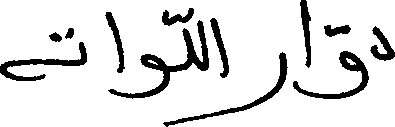ا: (103, 10, 124, 98), (207, 15, 230, 76), (298, 0, 310, 69)
ت: (49, 28, 86, 66)
د: (370, 24, 393, 62)
ر: (247, 49, 287, 109)
ل: (180, 5, 195, 78), (194, 17, 209, 74)
ه: (0, 32, 49, 81)
و: (330, 45, 368, 99), (139, 39, 171, 100)
